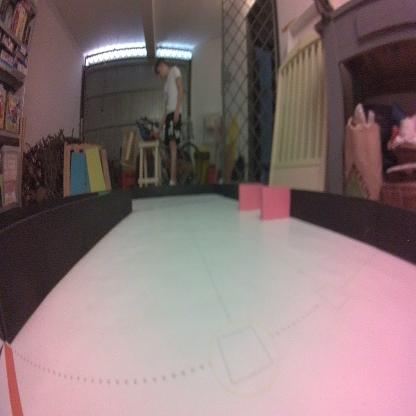magenta: (260, 183, 290, 220), (238, 181, 263, 212)
